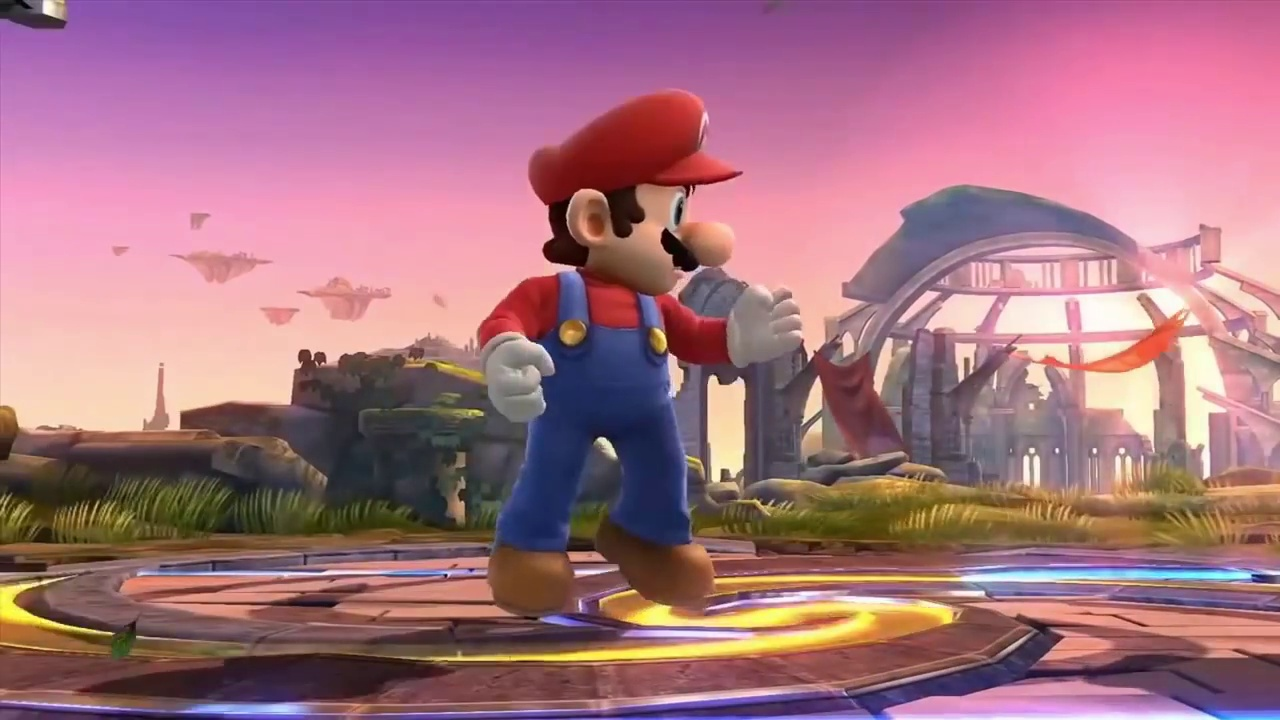Mario: (474, 90, 802, 610)
